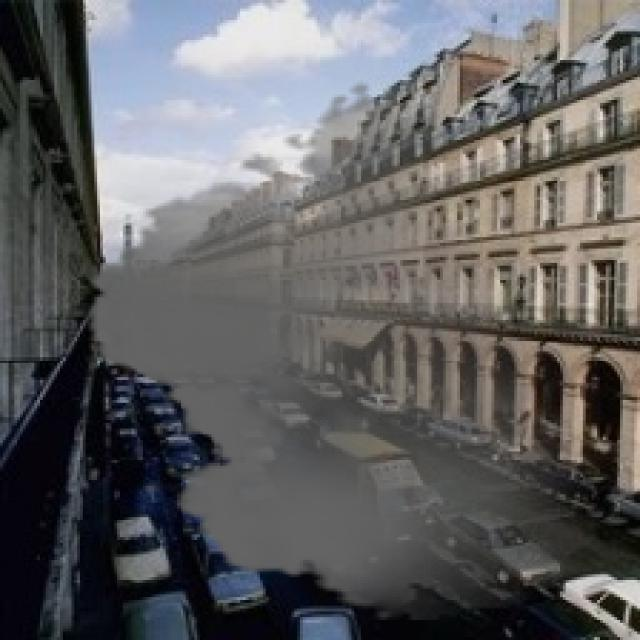smoke: (68, 80, 623, 620)
